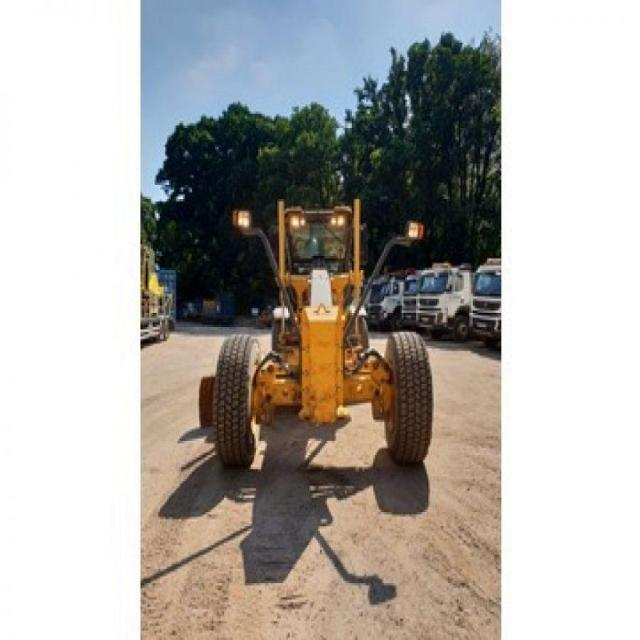Grader: (190, 171, 450, 496)
